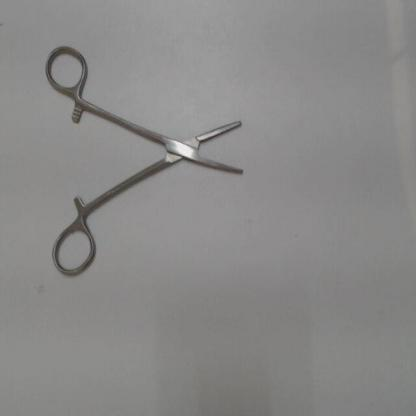Mayo Needle Holder: (41, 35, 253, 284)
